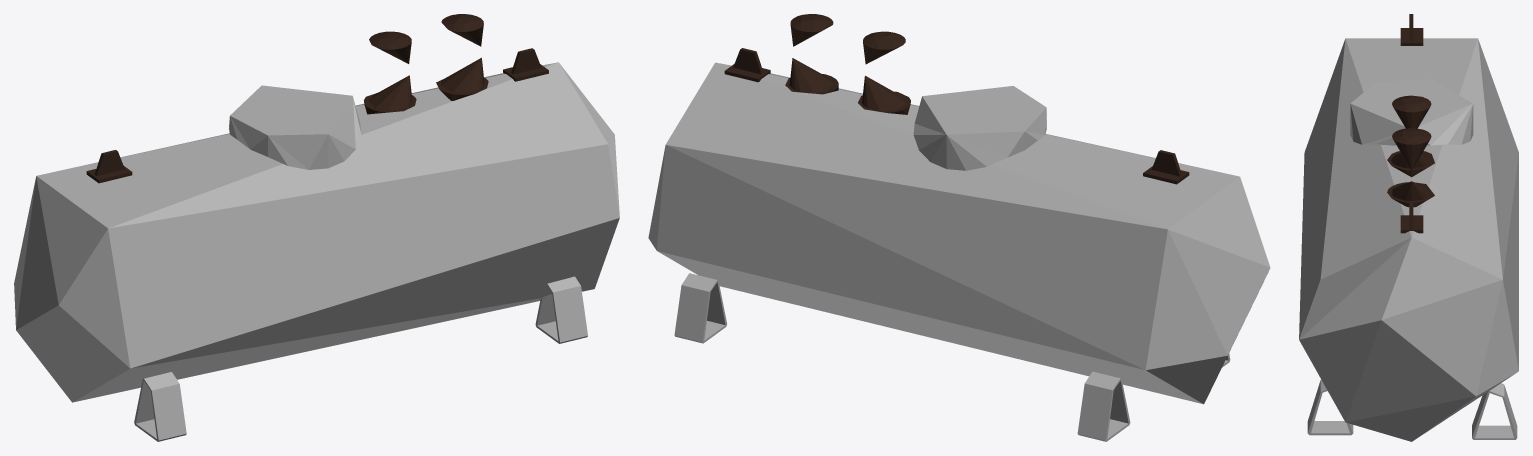
File: propane-tank.lod1.glb
3 renders of one model, left to right at view 1: azimuth 30°, elevation 25°; view 2: azimuth 150°, elevation 25°; view 3: azimuth 270°, elevation 25°, orthographic. The views are drawn at different scales.
Visible parts, largest first — view 1: pSphere4_CRTank_White_0; view 2: pSphere4_CRTank_White_0; view 3: pSphere4_CRTank_White_0.
Boxes of the visible parts, box(x1,y1,x2,y2) form: pSphere4_CRTank_White_0: box(14, 14, 619, 441); pSphere4_CRTank_White_0: box(648, 14, 1270, 441); pSphere4_CRTank_White_0: box(1299, 14, 1518, 441).
Bounding box in the file's own units: 2.56 × 1.27 × 0.9327.
